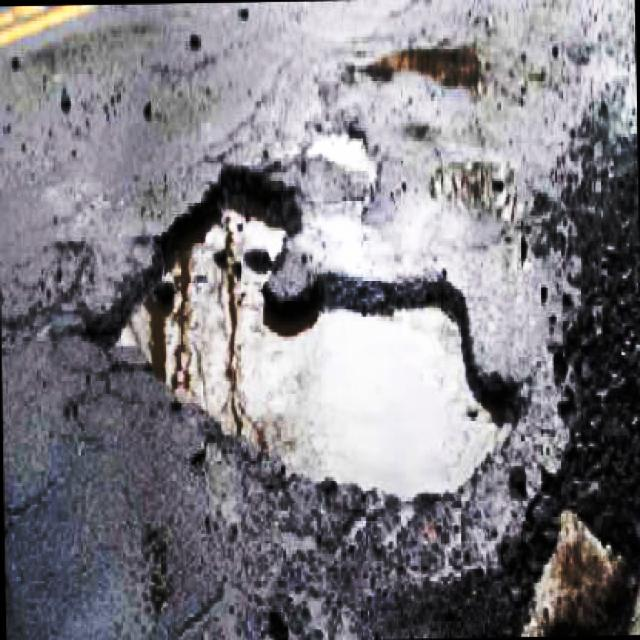pothole: (68, 154, 530, 512), (289, 119, 394, 212), (363, 32, 488, 94), (429, 151, 525, 229)
